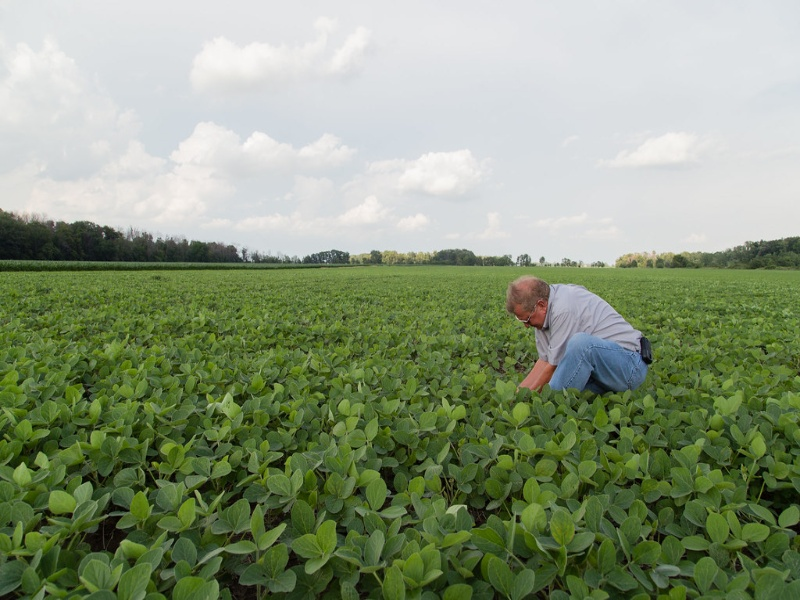soyabean: (1, 407, 790, 594), (14, 323, 496, 399), (678, 331, 799, 396)
